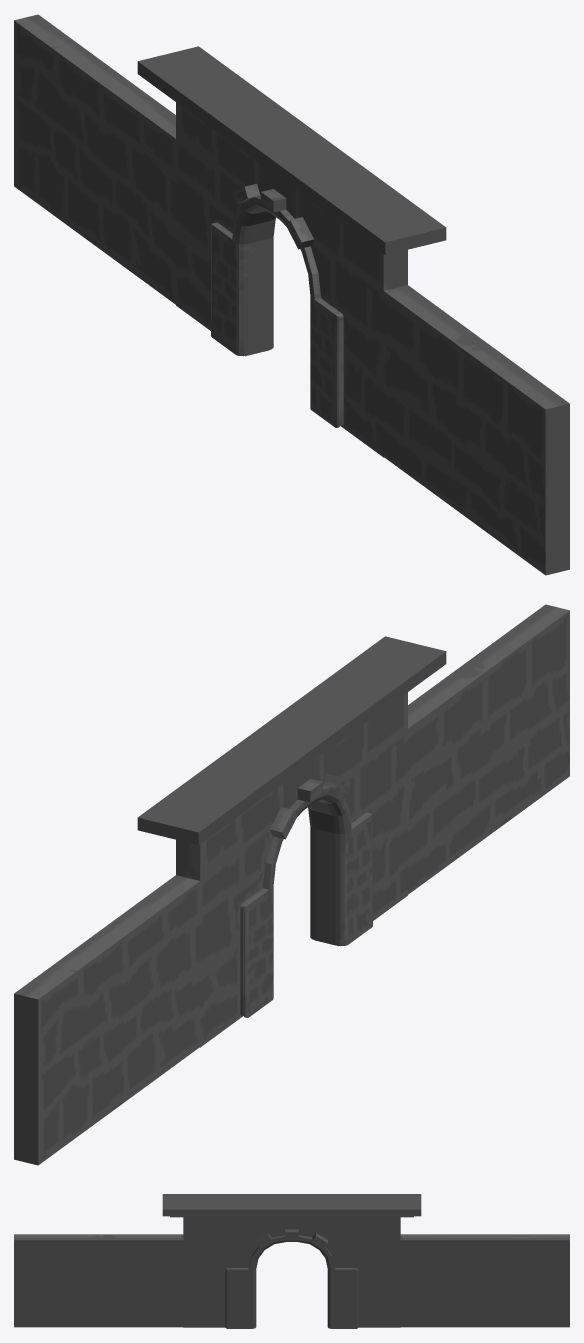
File: kale_giris.fbx
3 views of the same model, one above another, from view 1: azimuth 30°, elevation 25°; view 2: azimuth 150°, elevation 25°; view 3: azimuth 270°, elevation 25° (orthographic). The views are drawn at different scales.
Parts seen in each view (by area): view 1: duvar; view 2: duvar; view 3: duvar.
Boxes of the visible parts, x1,y1,x2,y2 form: duvar: (14, 14, 569, 575); duvar: (14, 604, 569, 1165); duvar: (14, 1194, 569, 1328).
Size of the model in its own units: 4.98 by 18.22 by 74.96.
1 material, 1 textured.
